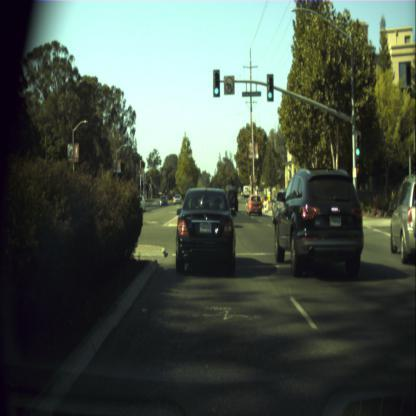Green: (212, 69, 220, 96), (266, 74, 273, 100), (355, 130, 360, 156)
